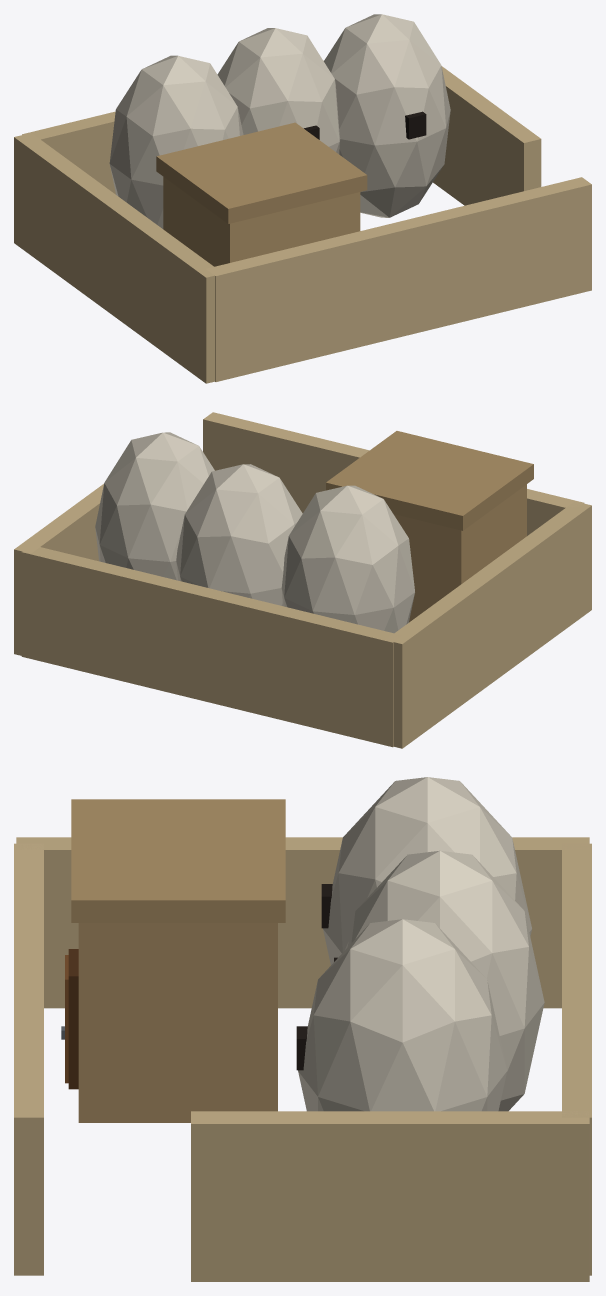
The model's file is gnoll_house_c.glb.
The picture shows the model from 3 angles, top to bottom: view 1: azimuth 30°, elevation 25°; view 2: azimuth 150°, elevation 25°; view 3: azimuth 270°, elevation 25°; orthographic projection. The views are drawn at different scales.
Visible parts, largest first — view 1: gnoll_house_c; view 2: gnoll_house_c; view 3: gnoll_house_c.
Boxes of the visible parts, x1=… form: gnoll_house_c: x1=14, y1=14, x2=591, y2=383; gnoll_house_c: x1=14, y1=412, x2=591, y2=748; gnoll_house_c: x1=14, y1=777, x2=591, y2=1281.
Bounding box in the file's own units: 2.72 × 1.34 × 2.32.
